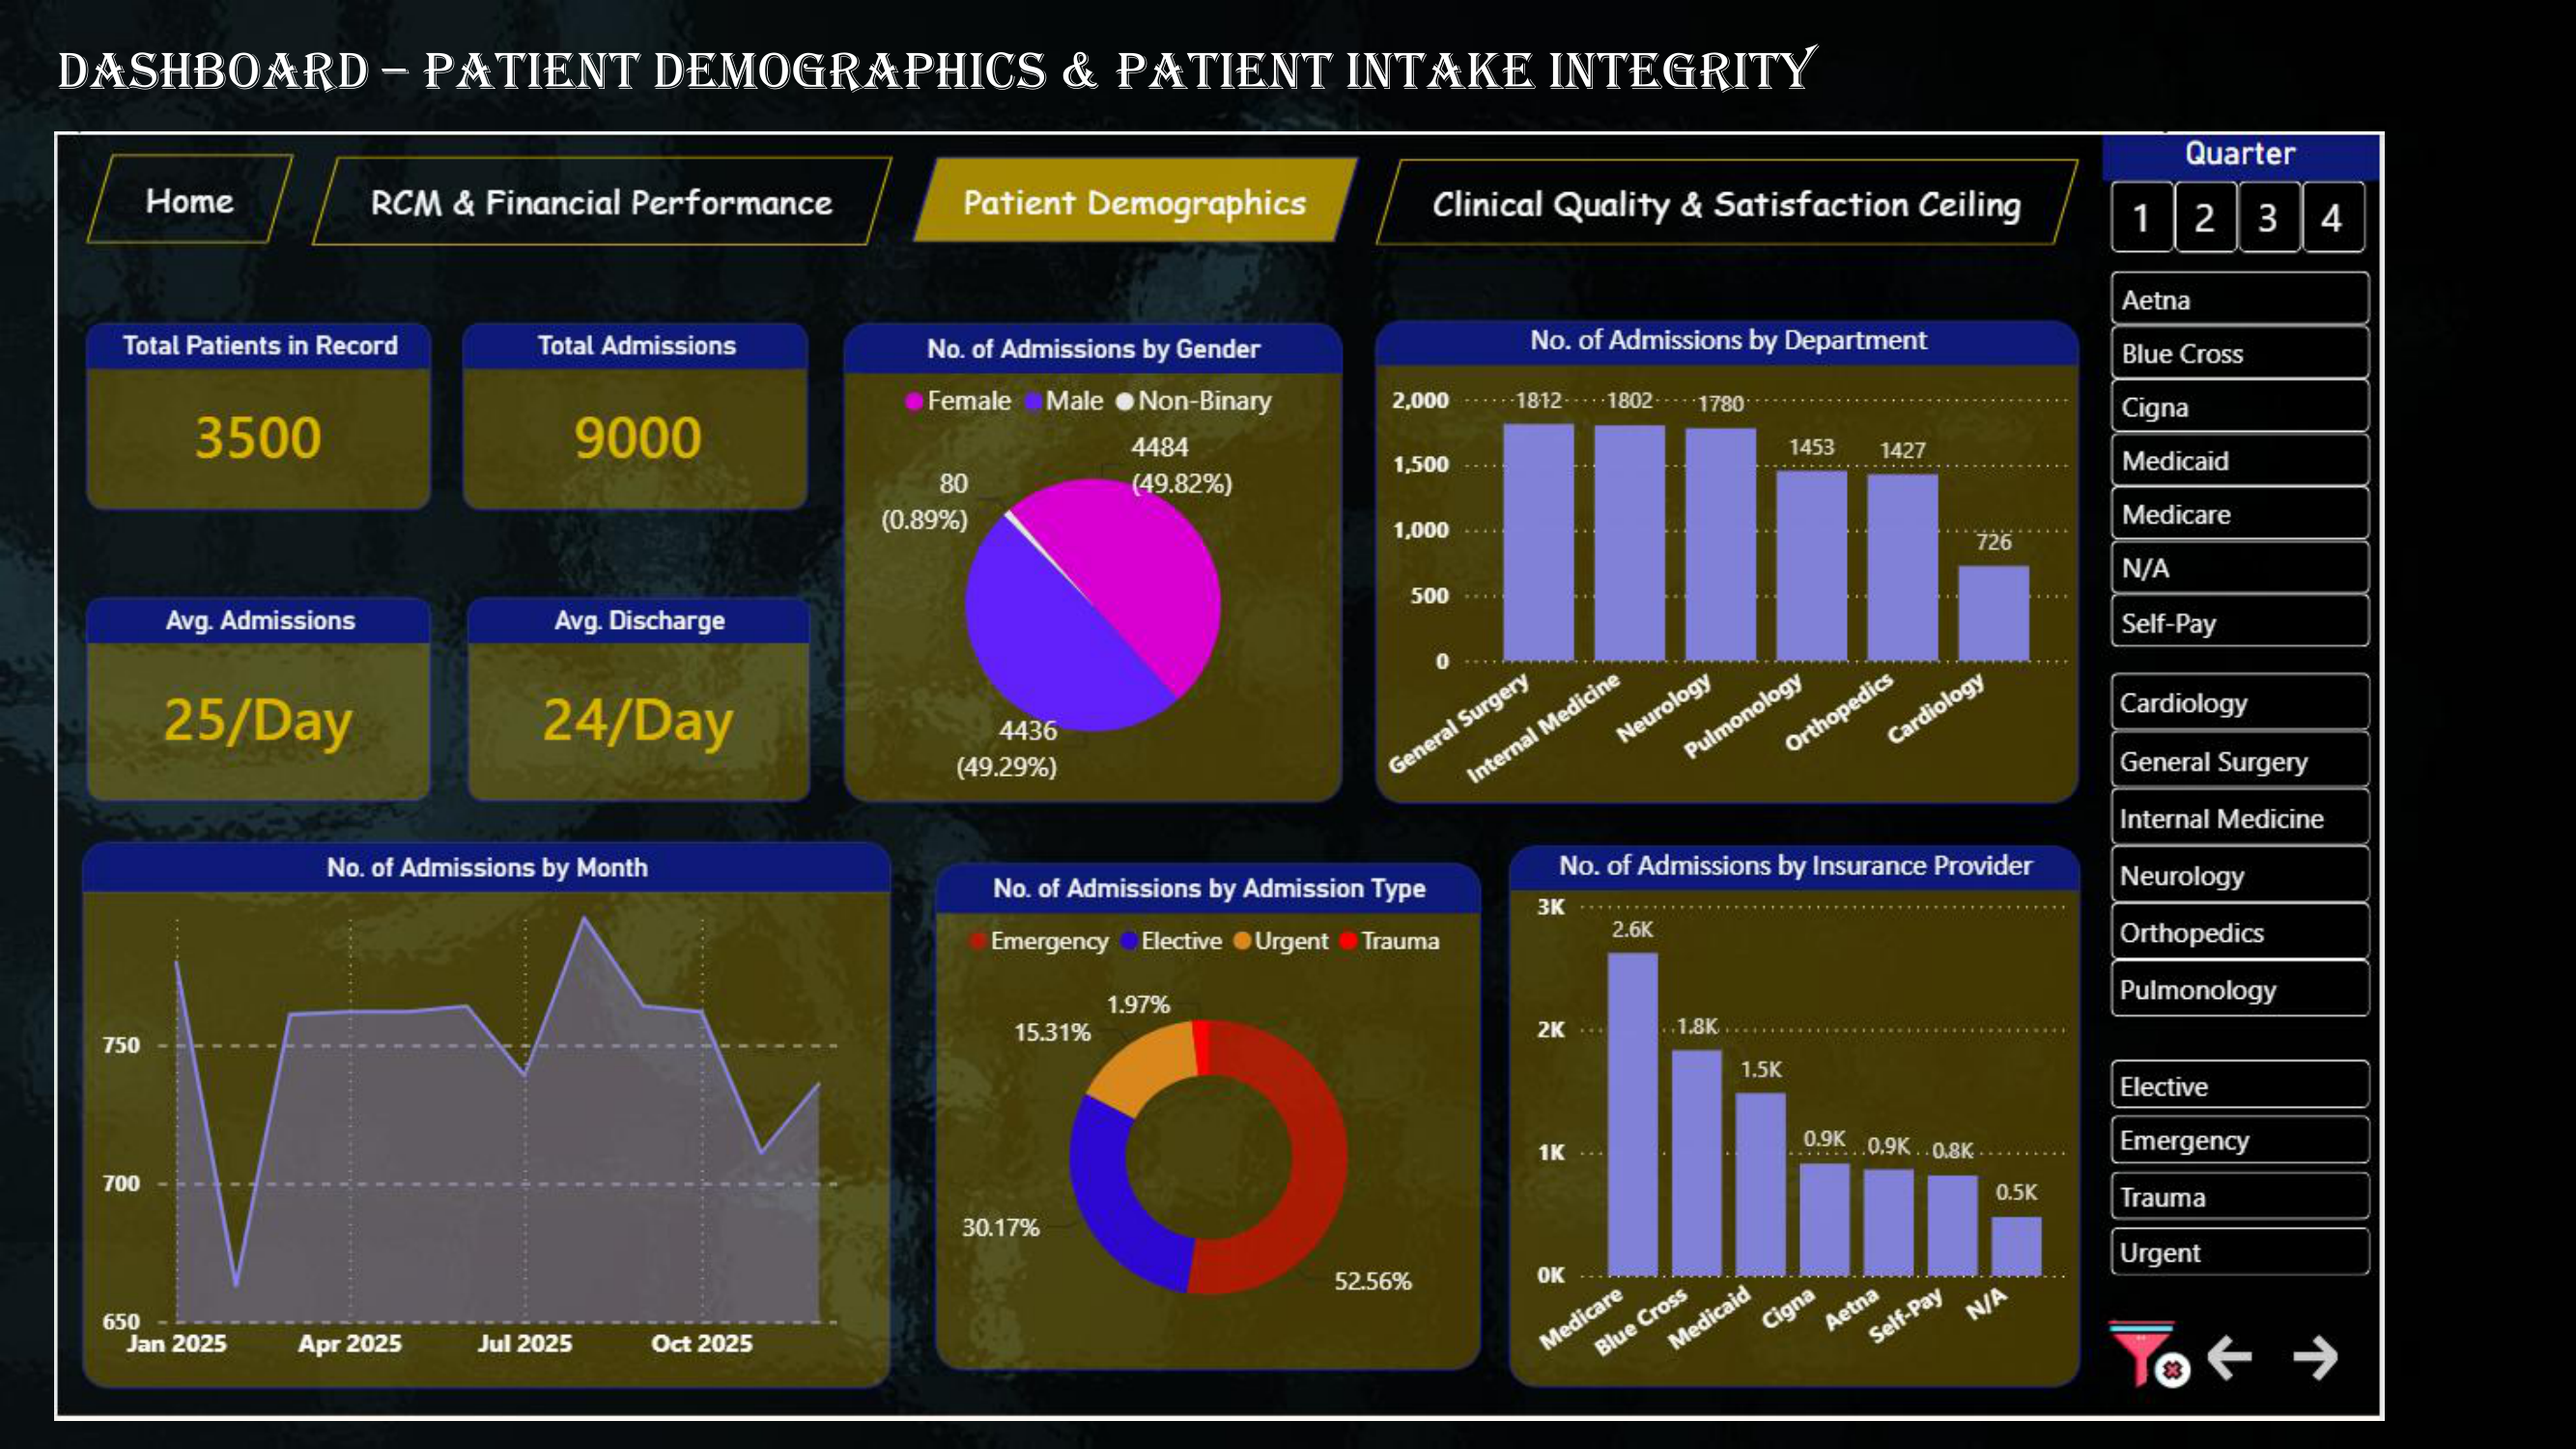

Layout of this report page (visuals, bound fields, positions):
{"tool":"powerbi","page":{"name":"Patient Demographics","canvas":[1280,720],"ordinal":2},"visuals":[{"type":"lineChart","title":"No. of Admissions by Month","fields":{"Y":["CountNonNull(Fact_Admissions.Encounter_ID)"],"Category":["Fact_Admissions.Admission_Date.Variation.Date Hierarchy.Year","Fact_Admissions.Admission_Date.Variation.Date Hierarchy.Quarter","Fact_Admissions.Admission_Date.Variation.Date Hierarchy.Month"]},"box":[15.7,384.9,446.4,305.2],"z":0},{"type":"cardVisual","title":"Total Patients in Record","fields":{"Data":["CountNonNull(Dim_Patients.Patient_ID)"]},"box":[15.2,105,190.6,105],"z":1000},{"type":"cardVisual","title":"Total Admissions","fields":{"Data":["CountNonNull(Fact_Admissions.Encounter_ID)"]},"box":[223.7,105,190.6,105],"z":2000},{"type":"clusteredColumnChart","title":"No. of Admissions by Insurance Provider","fields":{"Y":["CountNonNull(Fact_Admissions.Encounter_ID)"],"Category":["Dim_Patients.Insurance_Provider"]},"box":[799.7,396.4,314.9,302.5],"z":3000},{"type":"shape","box":[15.2,11,114.6,49.7],"z":4000},{"type":"shape","box":[139.5,12.4,320.4,49.7],"z":5000},{"type":"shape","box":[471,12.4,247.2,48.3],"z":6000},{"type":"shape","box":[726.5,13.8,388.1,48.3],"z":7000},{"type":"image","box":[1126.8,657.5,51.9,48.3],"z":8000},{"type":"actionButton","box":[1227,666,44.6,33.8],"z":9000},{"type":"actionButton","box":[1181.1,666,45.8,33.8],"z":10000},{"type":"clusteredColumnChart","title":"No. of Admissions by Department","fields":{"Category":["Dim_Doctors.Specialty"],"Y":["CountNonNull(Fact_Admissions.Encounter_ID)"]},"box":[726.5,103.6,388.1,269.3],"z":11000},{"type":"cardVisual","title":"Avg. Admissions","fields":{"Data":["Fact_Admissions.Avg. Admissions"]},"box":[15.2,258.3,190.6,114.6],"z":11500},{"type":"pieChart","title":"No. of Admissions by Gender","fields":{"Category":["Dim_Patients.Gender"],"Y":["CountNonNull(Fact_Admissions.Encounter_ID)"]},"box":[433.7,105,274.8,267.9],"z":12000},{"type":"donutChart","title":"No. of Admissions by Admission Type","fields":{"Category":["Fact_Admissions.Admission_Type"],"Y":["CountNonNull(Fact_Admissions.Encounter_ID)"]},"box":[483.4,406,301.1,283.1],"z":13000},{"type":"cardVisual","title":"Avg. Discharge","fields":{"Data":["Fact_Admissions.Avg.Discharge"]},"box":[225.1,258.3,189.2,114.6],"z":14000},{"type":"advancedSlicerVisual","fields":{"Values":["Dim_Patients.Insurance_Provider"]},"box":[1126.8,71.2,153.2,220.8],"z":16000},{"type":"advancedSlicerVisual","fields":{"Values":["Dim_Doctors.Specialty"]},"box":[1126.8,295.6,153.2,203.9],"z":17000},{"type":"advancedSlicerVisual","fields":{"Values":["Fact_Admissions.Admission_Type"]},"box":[1126.8,511.5,153.2,130.3],"z":18000},{"type":"advancedSlicerVisual","fields":{"Values":["Fact_Admissions.Year_Quarter"]},"box":[1127.1,0,152.9,71.4],"z":19000}]}

Visuals, with their boxes in screenshot pixels (x1, y1, x2, y2), scaled from the page's 1280x720 canvas onto the 2576x1449 screenshot:
"No. of Admissions by Month" lineChart: region(32, 775, 930, 1389)
"Total Patients in Record" cardVisual: region(31, 212, 414, 423)
"Total Admissions" cardVisual: region(450, 212, 834, 423)
"No. of Admissions by Insurance Provider" clusteredColumnChart: region(1609, 798, 2243, 1406)
shape: region(31, 22, 261, 122)
shape: region(281, 25, 925, 125)
shape: region(948, 25, 1445, 122)
shape: region(1462, 28, 2243, 125)
image: region(2268, 1323, 2372, 1420)
actionButton: region(2470, 1341, 2559, 1408)
actionButton: region(2377, 1341, 2469, 1408)
"No. of Admissions by Department" clusteredColumnChart: region(1462, 209, 2243, 751)
"Avg. Admissions" cardVisual: region(31, 520, 414, 751)
"No. of Admissions by Gender" pieChart: region(873, 212, 1426, 751)
"No. of Admissions by Admission Type" donutChart: region(973, 817, 1579, 1387)
"Avg. Discharge" cardVisual: region(453, 520, 834, 751)
advancedSlicerVisual - Dim_Patients.Insurance_Provider: region(2268, 143, 2575, 587)
advancedSlicerVisual - Dim_Doctors.Specialty: region(2268, 595, 2575, 1006)
advancedSlicerVisual - Fact_Admissions.Admission_Type: region(2268, 1030, 2575, 1292)
advancedSlicerVisual - Fact_Admissions.Year_Quarter: region(2268, 0, 2575, 144)
